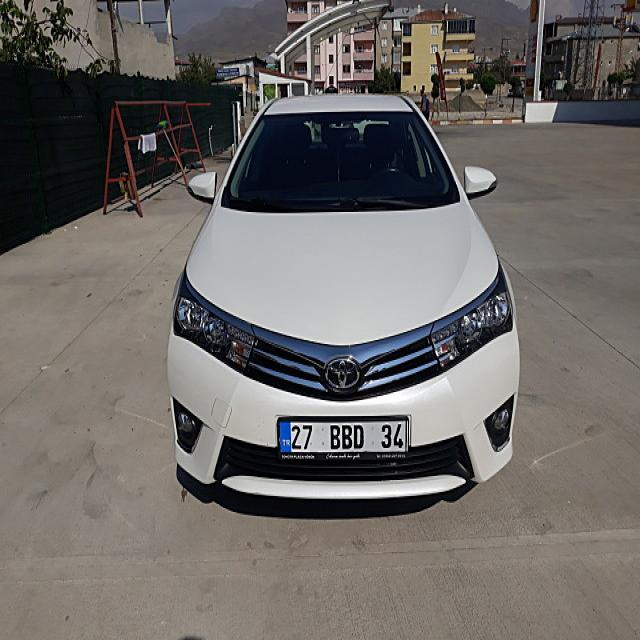plate: (277, 414, 412, 466)
